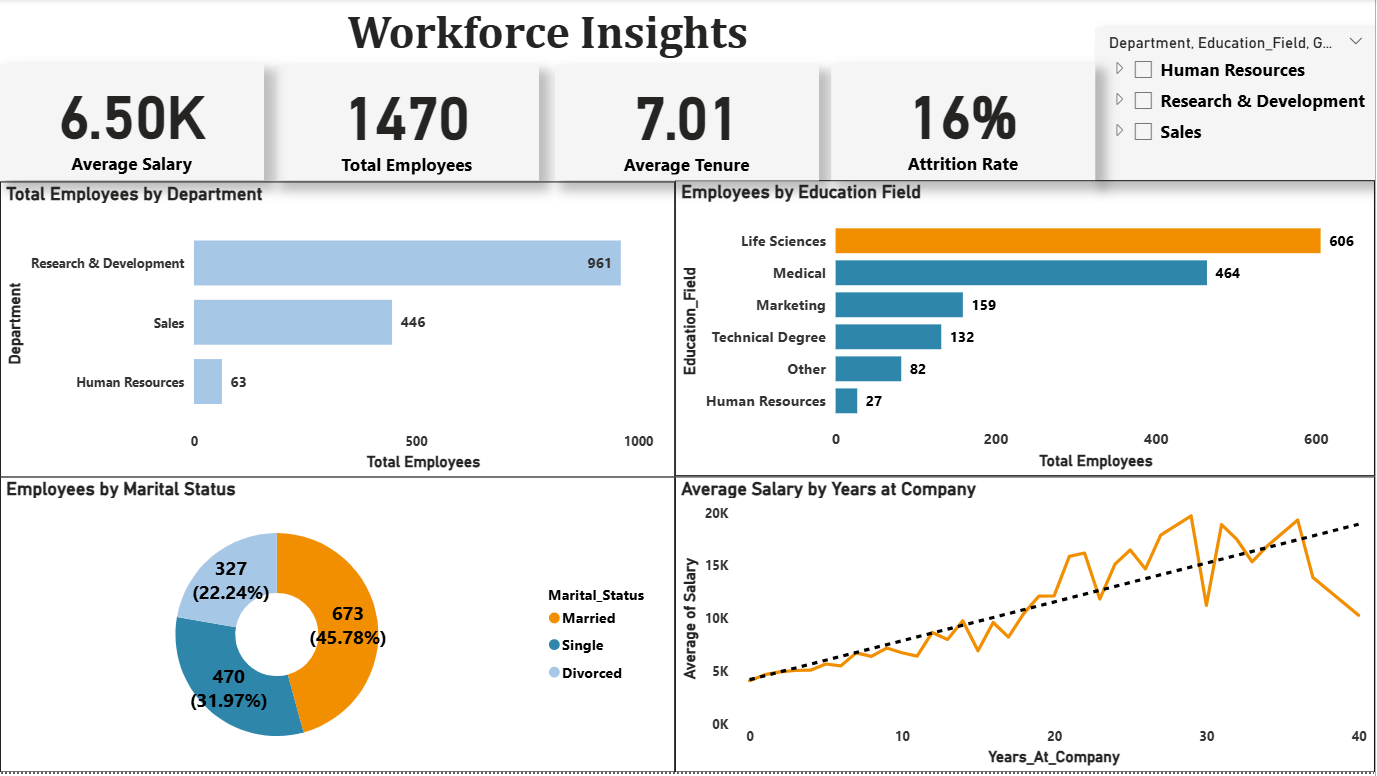

What the dashboard file says about the page in this screenshot:
{"tool":"powerbi","page":{"name":"Workforce Insights","canvas":[1280,720],"ordinal":2},"visuals":[{"type":"clusteredBarChart","title":"Employees by Education Field","fields":{"Category":["HR.Education_Field"],"Y":["HR.Total Employees"]},"box":[627.9,168.6,652.3,275.6],"z":0},{"type":"donutChart","title":"Employees by Marital Status","fields":{"Category":["HR.Marital_Status"],"Y":["HR.Total Employees"]},"box":[0,444.2,627.9,275.6],"z":1000},{"type":"lineChart","title":"Average Salary  by Years at Company","fields":{"Category":["HR.Years_At_Company"],"Y":["Avg(HR.Salary)"]},"box":[627.9,444.2,652.3,275.6],"z":2000},{"type":"slicer","fields":{"Values":["HR.Department","HR.Education_Field","HR.Gender"]},"box":[1018.6,26.7,261.6,141.9],"z":3000},{"type":"barChart","title":"Total Employees by Department","fields":{"Category":["HR.Department"],"Y":["HR.Total Employees"]},"box":[0,169.8,627.9,275.6],"z":4000},{"type":"textbox","box":[0,0,1018.6,70.9],"z":5000},{"type":"card","fields":{"Values":["HR.Total Employees"]},"box":[255.8,61.6,245.3,107],"z":5001},{"type":"card","fields":{"Values":["HR.Average Salary"]},"box":[0,60.5,245.3,108.1],"z":5002},{"type":"card","fields":{"Values":["HR.Average Tenure"]},"box":[516.3,61.6,245.3,107],"z":5003},{"type":"card","fields":{"Values":["HR.Attrition Rate"]},"box":[773.3,60.5,245.3,108.1],"z":5004}]}

Visuals, with their boxes in screenshot pixels (x1, y1, x2, y2), scaled from the page's 1280x720 canvas onto the 1377x776 screenshot:
"Employees by Education Field" clusteredBarChart: BBox(675, 182, 1376, 479)
"Employees by Marital Status" donutChart: BBox(0, 479, 675, 775)
"Average Salary  by Years at Company" lineChart: BBox(675, 479, 1376, 775)
slicer - HR.Department x HR.Education_Field: BBox(1096, 29, 1376, 182)
"Total Employees by Department" barChart: BBox(0, 183, 675, 480)
textbox: BBox(0, 0, 1096, 76)
card - HR.Total Employees: BBox(275, 66, 539, 182)
card - HR.Average Salary: BBox(0, 65, 264, 182)
card - HR.Average Tenure: BBox(555, 66, 819, 182)
card - HR.Attrition Rate: BBox(832, 65, 1096, 182)
